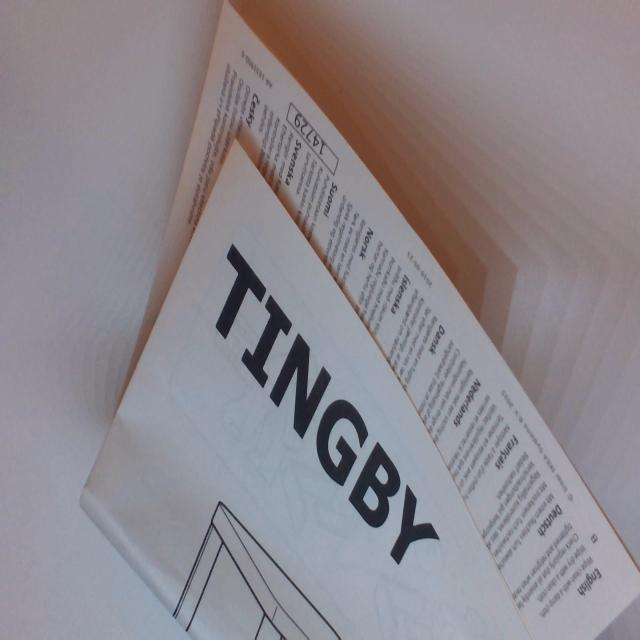Paper: (79, 0, 638, 640)
